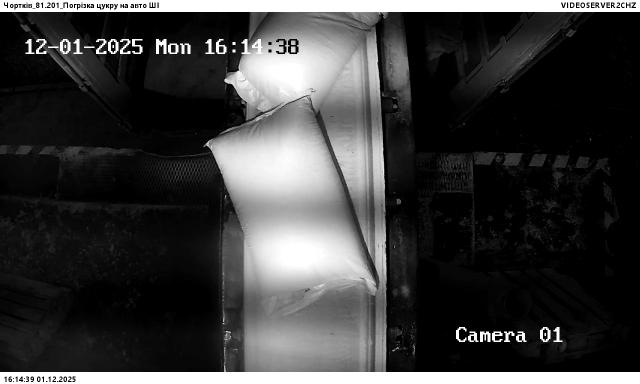bag: (204, 96, 379, 321), (224, 12, 384, 123)
